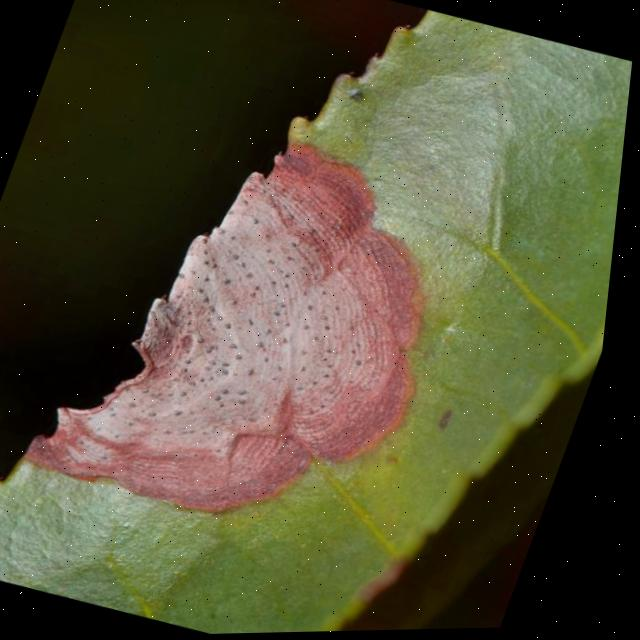Tea cloud leaf blight: (17, 95, 495, 555)
